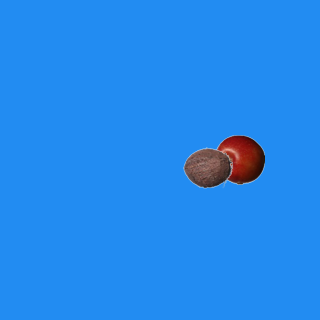Apple Braeburn: (214, 134, 264, 184)
Cocos: (182, 142, 232, 192)
